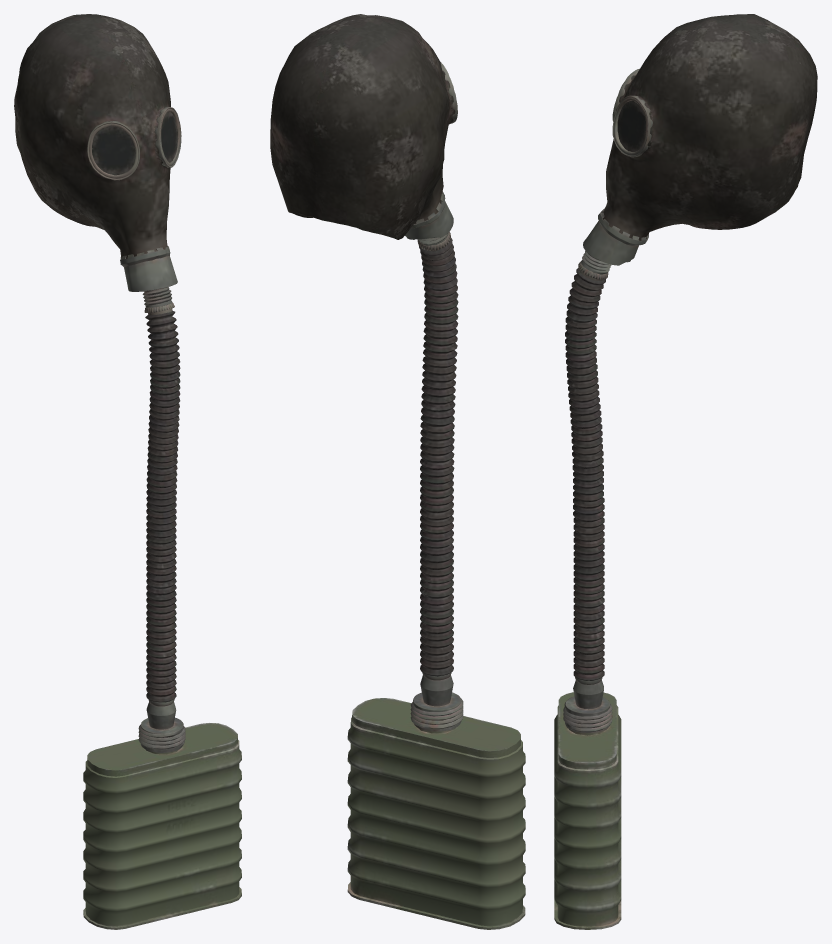
Rendered from old_gas_mask.glb.
3 views of the same model, side by side, from view 1: azimuth 30°, elevation 25°; view 2: azimuth 150°, elevation 25°; view 3: azimuth 270°, elevation 25° (orthographic). The views are drawn at different scales.
Parts seen in each view (by area): view 1: old_gas_mask; view 2: old_gas_mask; view 3: old_gas_mask.
Part boxes in pixels (box(x1,y1,x2,y2)): old_gas_mask: box(14, 14, 241, 929); old_gas_mask: box(270, 14, 525, 929); old_gas_mask: box(554, 14, 817, 929).
Bounding box in the file's own units: 0.2106 × 1.13 × 0.3085.
Materials: 1 (1 with a texture image).
